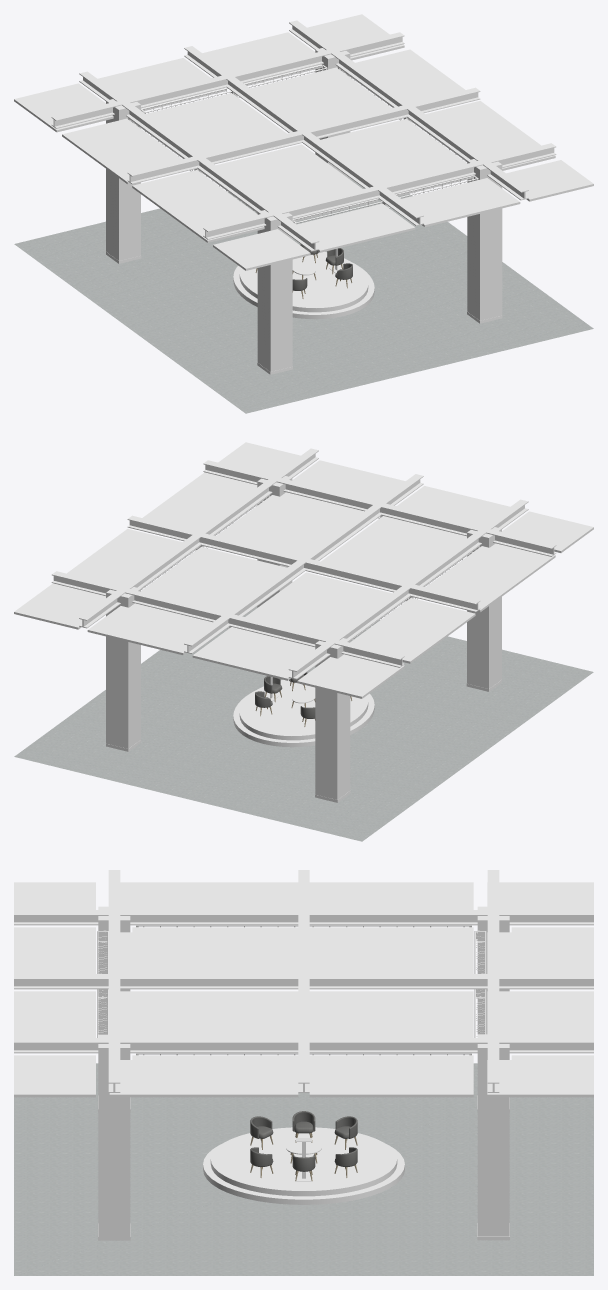
The model's file is mockup.gltf.
The picture shows the model from 3 angles, top to bottom: view 1: azimuth 30°, elevation 25°; view 2: azimuth 150°, elevation 25°; view 3: azimuth 270°, elevation 25°; orthographic projection. The views are drawn at different scales.
Parts seen in each view (by area): view 1: Difference, root, Structure, Columns (×3), object 16, object 3; view 2: Difference, root, Structure, Columns (×3), object 16; view 3: Difference, root, Structure, Columns (×4), object 16, object 3, Stage Chair - Panelist.
Boxes of the visible parts, left/top/right/bottom form: Difference: left=14, top=14, right=593, bottom=270; root: left=14, top=178, right=593, bottom=413; Structure: left=51, top=20, right=556, bottom=251; Columns (×3): left=106, top=95, right=502, bottom=374; object 16: left=233, top=251, right=374, bottom=319; object 3: left=128, top=64, right=478, bottom=224; Difference: left=14, top=442, right=593, bottom=698; root: left=14, top=606, right=593, bottom=841; Structure: left=51, top=448, right=556, bottom=679; Columns (×3): left=106, top=523, right=501, bottom=802; object 16: left=233, top=679, right=374, bottom=747; Difference: left=14, top=882, right=593, bottom=1097; root: left=14, top=1063, right=593, bottom=1275; Structure: left=14, top=870, right=593, bottom=1092; Columns (×4): left=98, top=906, right=509, bottom=1240; object 16: left=203, top=1127, right=404, bottom=1204; object 3: left=97, top=925, right=486, bottom=1055; Stage Chair - Panelist: left=292, top=1111, right=315, bottom=1142.
Size of the model in its own units: 13.17 by 5.59 by 15.19.
8 materials, 3 textured.
